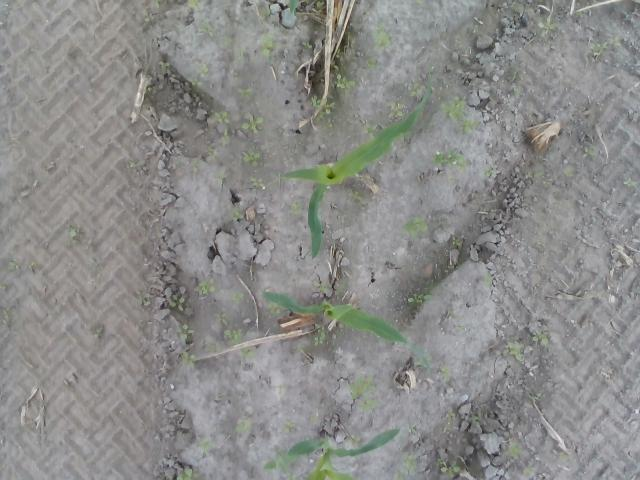Maize: (284, 73, 432, 258), (264, 289, 440, 377), (263, 426, 400, 480), (288, 0, 298, 18)
Weeds: (439, 94, 477, 136), (206, 111, 234, 162), (346, 374, 383, 412), (310, 94, 338, 130), (434, 148, 468, 169), (402, 214, 429, 240), (434, 454, 462, 479), (392, 454, 418, 480), (591, 37, 621, 56), (538, 15, 560, 40), (448, 308, 468, 335), (369, 29, 393, 50), (240, 110, 264, 131), (193, 278, 216, 299), (254, 36, 274, 58), (505, 340, 525, 362), (528, 326, 550, 346), (7, 259, 38, 273), (190, 63, 208, 87), (174, 323, 196, 342), (332, 73, 358, 89), (312, 320, 328, 346), (167, 293, 186, 314), (382, 102, 406, 118), (406, 292, 434, 305), (240, 147, 265, 161), (510, 438, 526, 459), (222, 326, 240, 344), (194, 438, 214, 454), (410, 79, 425, 100), (235, 418, 251, 436), (181, 350, 196, 369), (1, 306, 13, 329), (199, 22, 216, 38), (176, 467, 196, 480), (512, 66, 520, 98), (438, 366, 452, 384), (286, 202, 304, 216), (582, 146, 601, 159), (215, 311, 232, 325), (268, 302, 284, 316), (240, 348, 258, 360), (413, 354, 426, 370), (228, 207, 241, 223), (521, 465, 538, 477), (238, 88, 258, 98), (68, 226, 82, 240), (482, 166, 498, 178), (250, 176, 266, 188), (528, 392, 546, 402), (483, 270, 493, 288), (348, 190, 363, 202), (135, 288, 145, 306), (222, 34, 234, 48), (282, 421, 296, 433), (622, 178, 638, 188), (159, 61, 171, 74), (216, 171, 226, 186), (186, 0, 202, 9), (144, 15, 160, 24), (284, 471, 300, 480), (300, 41, 314, 50), (366, 56, 376, 68), (314, 0, 326, 10), (450, 237, 462, 247), (564, 168, 574, 180), (470, 413, 480, 424), (232, 292, 241, 304), (446, 412, 456, 422), (407, 424, 417, 433), (94, 327, 102, 338), (366, 127, 376, 135), (238, 48, 246, 58), (144, 86, 152, 96), (281, 26, 289, 35), (320, 286, 327, 294), (0, 283, 8, 290)
